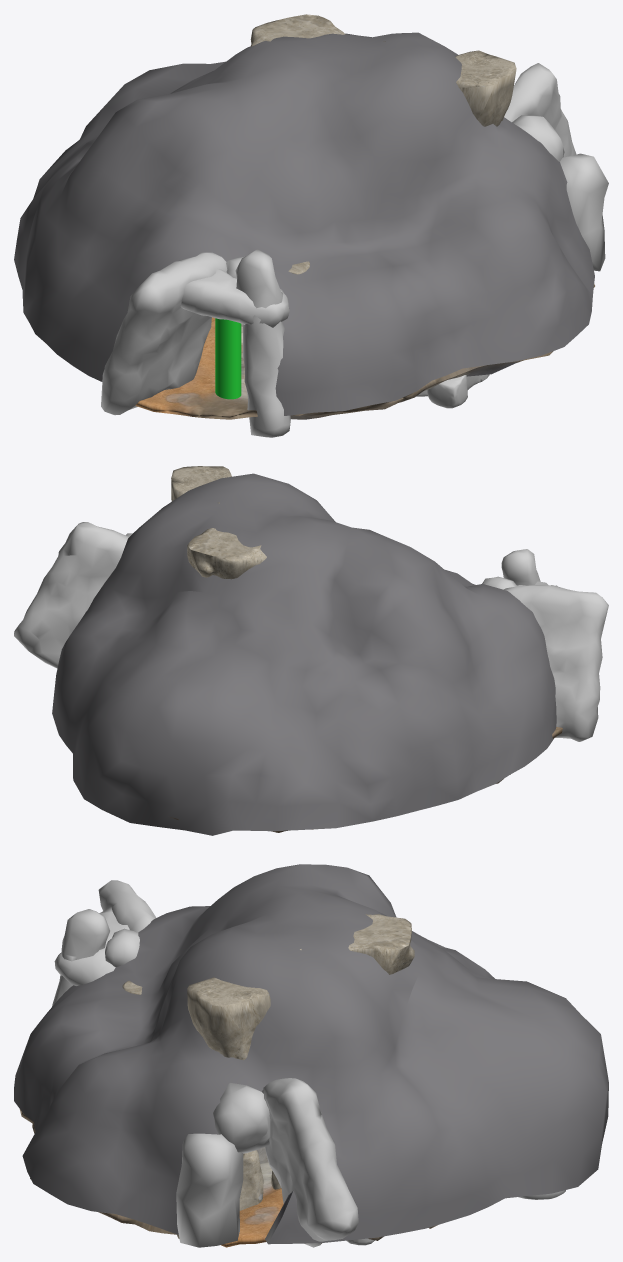
The model's file is Painting Cave Final.fbx.
3 renders of one model, top to bottom at view 1: azimuth 30°, elevation 25°; view 2: azimuth 150°, elevation 25°; view 3: azimuth 270°, elevation 25°, orthographic. The views are drawn at different scales.
Parts seen in each view (by area): view 1: Cave, Painting Exit, Painting Entery, Floor, pilar2.001, Exit Human, pilar1.001, smallrockcluster.001; view 2: Cave, Painting Exit, Painting Entery, pilar1.001, pilar2.001; view 3: Cave, Painting Entery, Painting Exit, pilar2.001, Floor, pilar1.001, pilar3.001.
Part boxes in pixels (x1,y1,x2,y2): Cave: (14, 32, 594, 415); Painting Exit: (101, 249, 290, 437); Painting Entery: (504, 63, 608, 271); Floor: (135, 284, 594, 419); pilar2.001: (455, 50, 516, 126); Exit Human: (215, 318, 241, 399); pilar1.001: (250, 14, 345, 46); smallrockcluster.001: (416, 374, 489, 408); Cave: (52, 473, 556, 835); Painting Exit: (482, 549, 608, 741); Painting Entery: (14, 522, 132, 668); pilar1.001: (187, 528, 266, 579); pilar2.001: (171, 466, 231, 501); Cave: (14, 864, 608, 1244); Painting Entery: (176, 1078, 358, 1247); Painting Exit: (52, 880, 156, 1006); pilar2.001: (187, 977, 270, 1060); Floor: (19, 1109, 437, 1247); pilar1.001: (348, 914, 414, 974); pilar3.001: (239, 1150, 263, 1210).
Bounding box in the file's own units: 1064 × 479 × 989.
